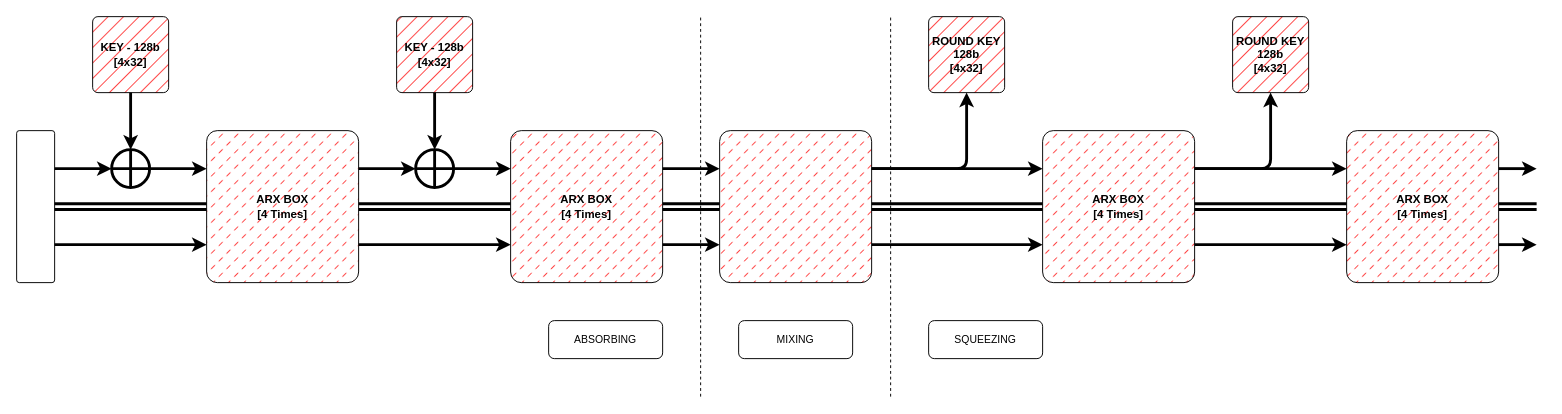
The diagram is 1562 pixels wide and 414 high, and some of its shapes have lost their labels. Here are the shapes that lost their labels. From the top down, the box of each, then its label:
(16, 130, 55, 283): BUFFER
(719, 130, 872, 283): ARX BOX [8 Times]
